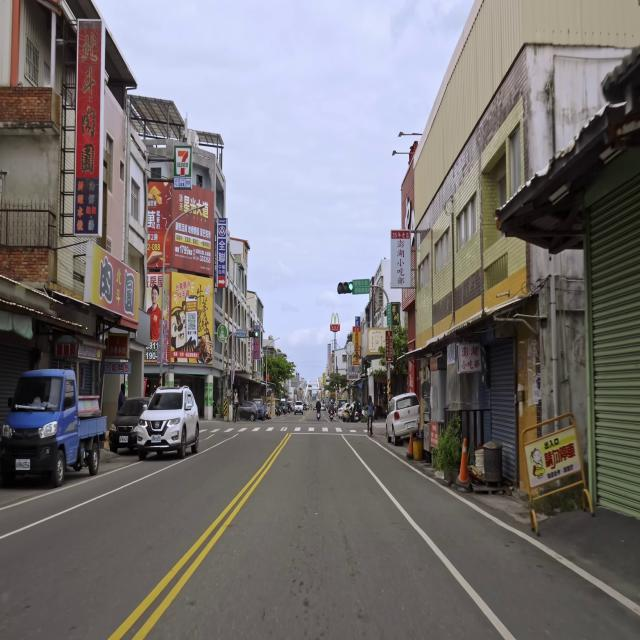green light: (337, 282, 353, 293), (248, 330, 258, 338)
